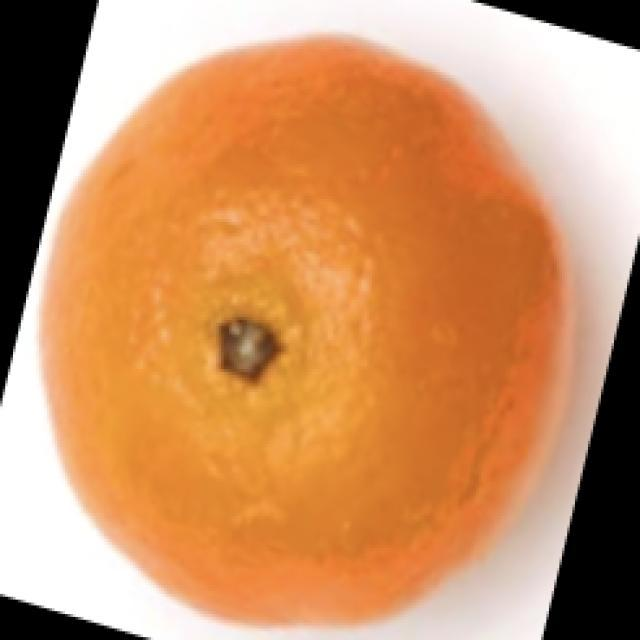Orange: (37, 31, 572, 627)
